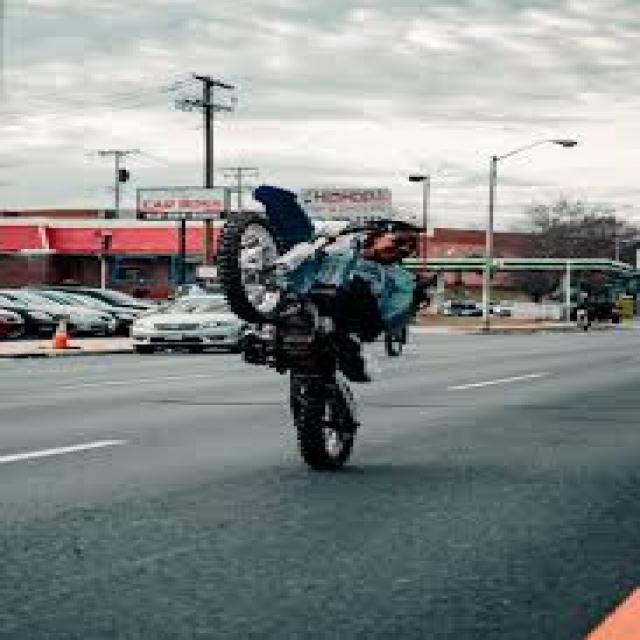Wheeling: (161, 165, 495, 467)
